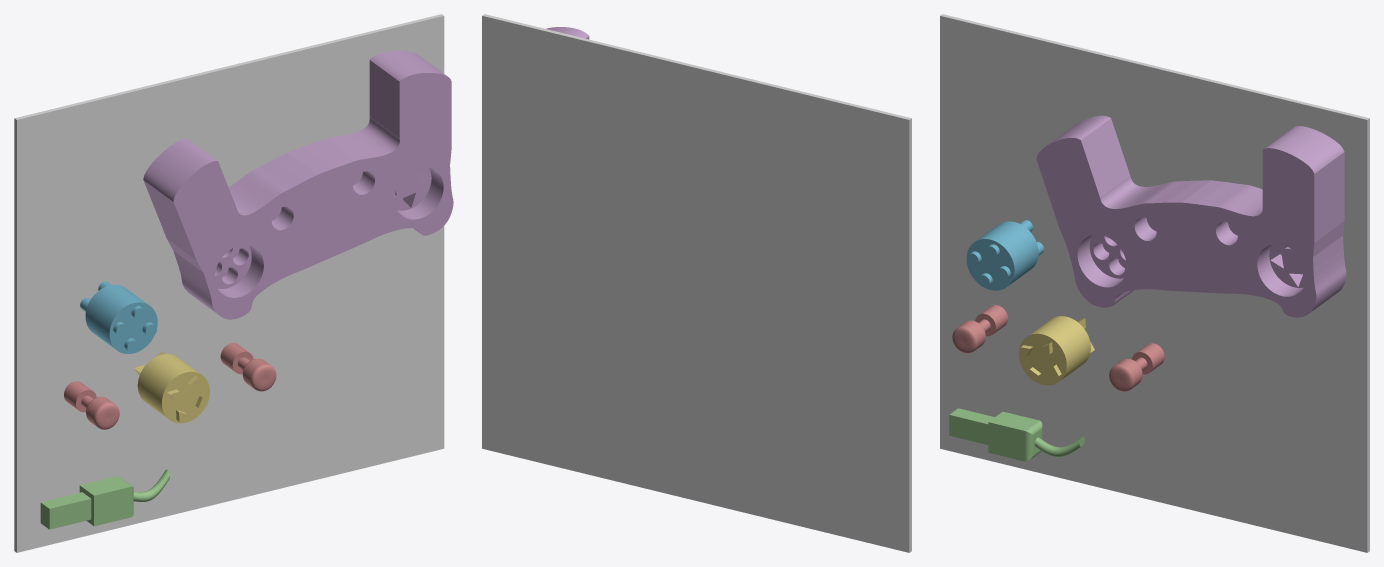
The model's file is pickup_layout.glb.
3 renders of one model, left to right at view 1: azimuth 30°, elevation 25°; view 2: azimuth 150°, elevation 25°; view 3: azimuth 330°, elevation 25°, orthographic.
Visible parts, largest first — view 1: world, 3.obj, 4.obj, 2.obj, 1.obj, 5.obj, 0.obj; view 2: world; view 3: world, 3.obj, 4.obj, 2.obj, 1.obj, 5.obj, 0.obj.
Boxes of the visible parts, box(x1,y1,x2,y2) form: world: box(14, 14, 444, 552); 3.obj: box(143, 50, 453, 319); 4.obj: box(40, 469, 169, 529); 2.obj: box(80, 281, 157, 353); 1.obj: box(134, 351, 209, 423); 5.obj: box(220, 343, 276, 391); 0.obj: box(64, 381, 119, 429); world: box(482, 14, 911, 552); world: box(940, 14, 1369, 552); 3.obj: box(1036, 115, 1346, 317); 4.obj: box(949, 408, 1084, 461); 2.obj: box(966, 220, 1043, 290); 1.obj: box(1018, 316, 1094, 385); 5.obj: box(1109, 343, 1164, 391); 0.obj: box(952, 305, 1007, 353).
Bounding box in the file's own units: 20.45 × 19.79 × 3.2.
